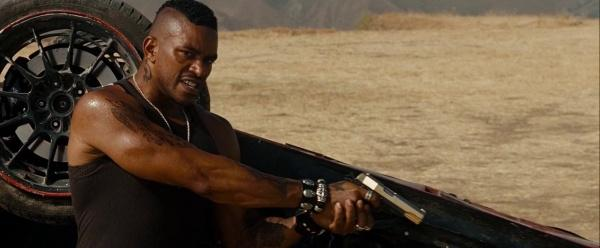Gun: (351, 172, 427, 227)
